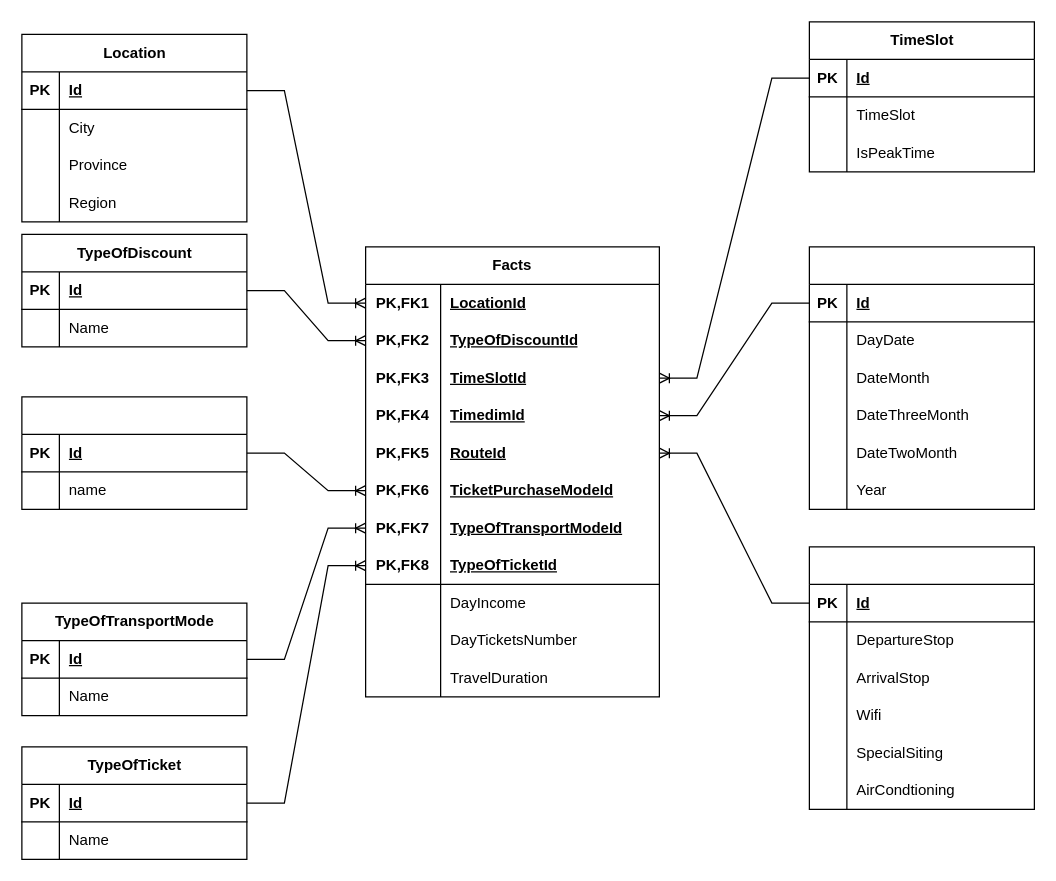
The diagram is 1056 pixels wide and 881 high, and some of its shapes have lost their labels. The box of each missing label's shape, as (x1, y1, x2, y2) in pixels:
Route: (808, 546, 1034, 809)
TicketPurchaseMode: (21, 396, 247, 509)
Timedim: (808, 246, 1034, 509)
